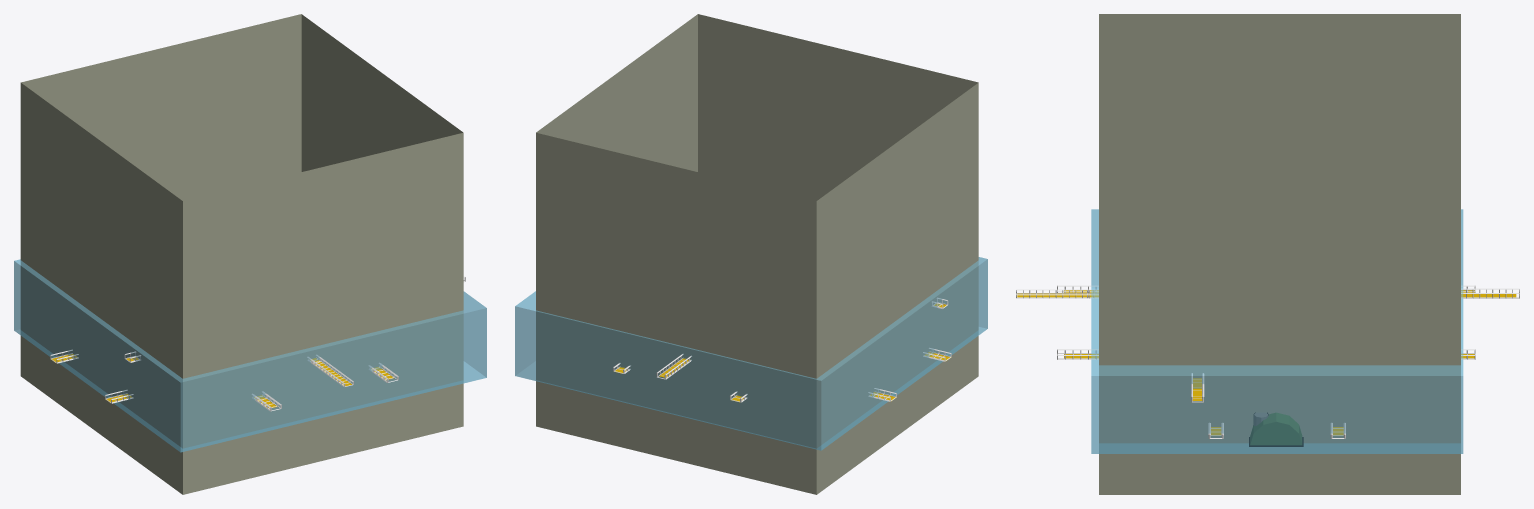
The model's file is Level 3.fbx.
3 views of the same model, side by side, from view 1: azimuth 30°, elevation 25°; view 2: azimuth 150°, elevation 25°; view 3: azimuth 270°, elevation 25° (orthographic). The views are drawn at different scales.
Parts seen in each view (by area): view 1: Borda_mapa, Agua; view 2: Borda_mapa, Agua; view 3: Borda_mapa, Agua, Cylinder.002, Ponte.006.
Part boxes in pixels (left/top/right/bottom): Borda_mapa: left=20, top=14, right=463, bottom=494; Agua: left=14, top=259, right=486, bottom=452; Borda_mapa: left=536, top=14, right=978, bottom=494; Agua: left=515, top=257, right=987, bottom=450; Borda_mapa: left=1099, top=14, right=1460, bottom=494; Agua: left=1091, top=209, right=1463, bottom=453; Cylinder.002: left=1249, top=412, right=1303, bottom=446; Ponte.006: left=1016, top=289, right=1098, bottom=298.
Size of the model in its own units: 15856 by 12838 by 17870.
